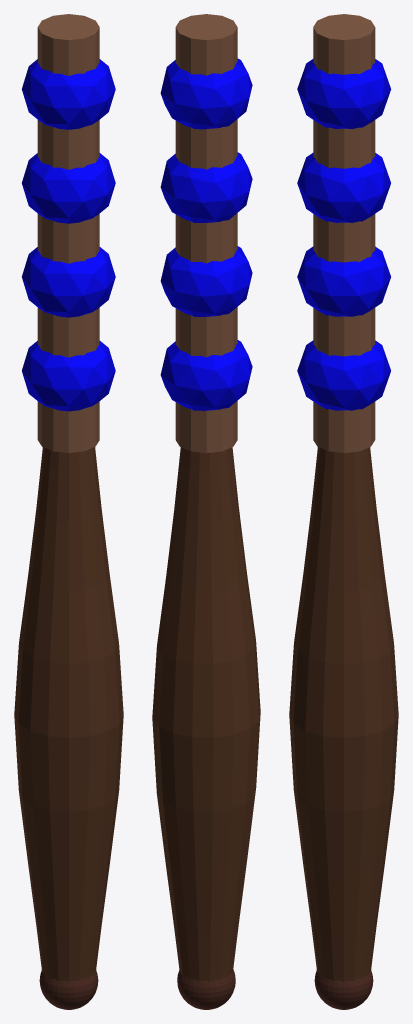
Rendered from Wand 133.glb.
3 renders of one model, left to right at view 1: azimuth 90°, elevation 25°; view 2: azimuth 210°, elevation 25°; view 3: azimuth 270°, elevation 25°, orthographic.
Visible parts, largest first — view 1: GeneratedWand; view 2: GeneratedWand; view 3: GeneratedWand.
Part boxes in pixels (x1,y1,x2,y2): GeneratedWand: [14, 14, 123, 1009]; GeneratedWand: [152, 14, 260, 1009]; GeneratedWand: [289, 14, 398, 1009].
Bounding box in the file's own units: 0.0499 × 0.4926 × 0.0499.
